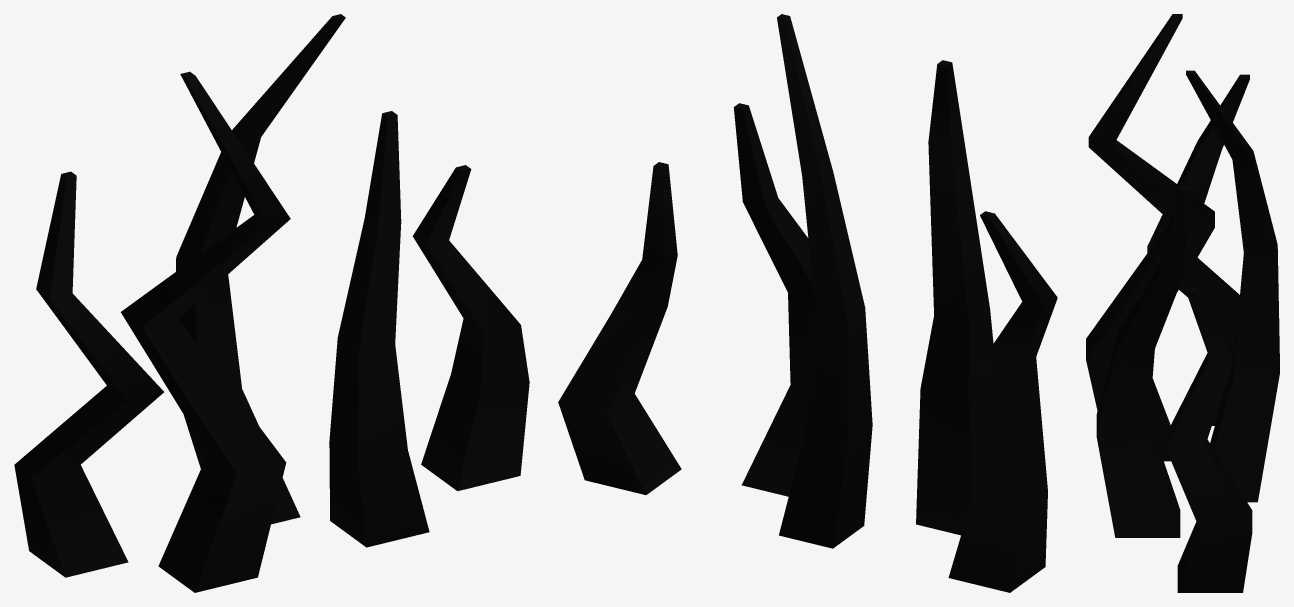
The model's file is Grass_2.fbx.
3 renders of one model, left to right at view 1: azimuth 30°, elevation 25°; view 2: azimuth 150°, elevation 25°; view 3: azimuth 270°, elevation 25°, orthographic. The views are drawn at different scales.
Visible parts, largest first — view 1: Grass_2; view 2: Grass_2; view 3: Grass_2.
Part boxes in pixels (x1,y1,x2,y2): Grass_2: (14, 14, 529, 592); Grass_2: (558, 14, 1057, 592); Grass_2: (1086, 14, 1279, 592).
Bounding box in the file's own units: 85.53 × 83.44 × 32.98.
